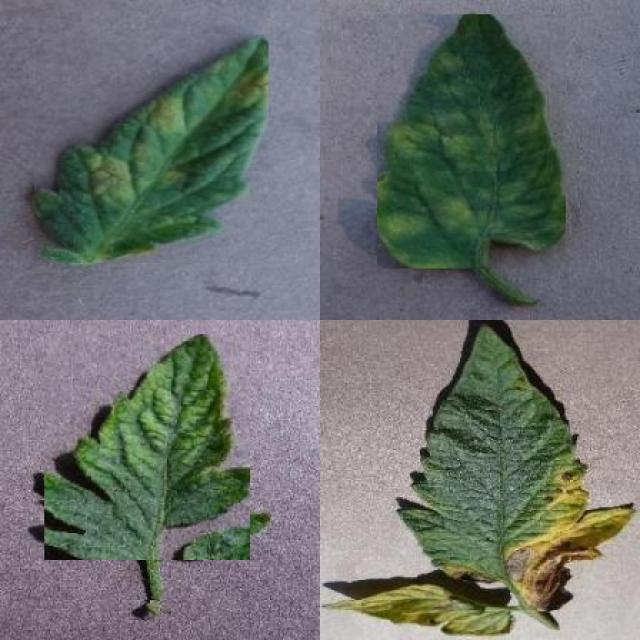Early Blight: (395, 321, 635, 606)
Leaf Mold: (35, 35, 268, 264), (378, 14, 566, 269)
Mosaic Virus: (45, 334, 251, 560)
